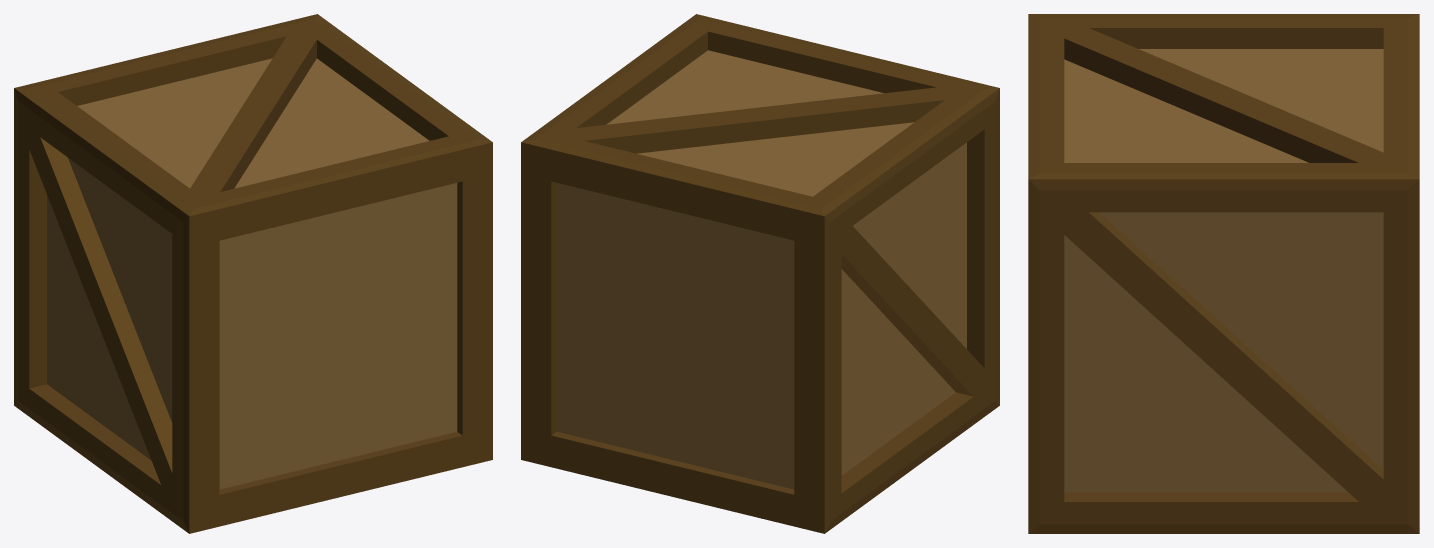
File: Crate_Mod.fbx
3 renders of one model, left to right at view 1: azimuth 30°, elevation 25°; view 2: azimuth 150°, elevation 25°; view 3: azimuth 270°, elevation 25°, orthographic. The views are drawn at different scales.
Parts seen in each view (by area): view 1: Crate; view 2: Crate; view 3: Crate.
Part boxes in pixels (x1,y1,x2,y2): Crate: (14, 14, 492, 533); Crate: (521, 14, 999, 533); Crate: (1028, 14, 1419, 533).
Size of the model in its own units: 3.69 by 3.69 by 3.67.
